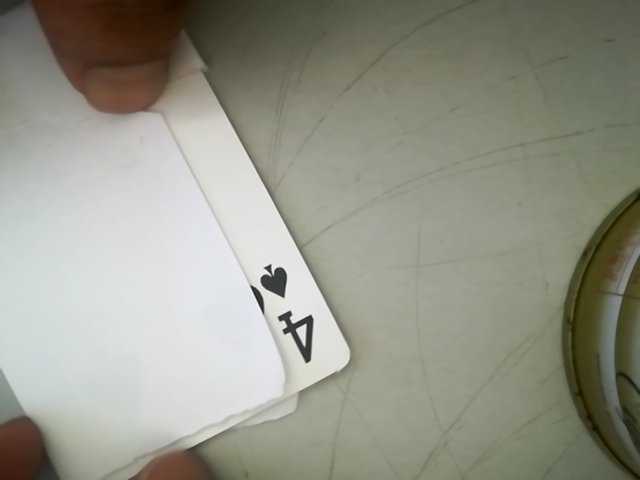ht 4: (239, 252, 334, 370)
